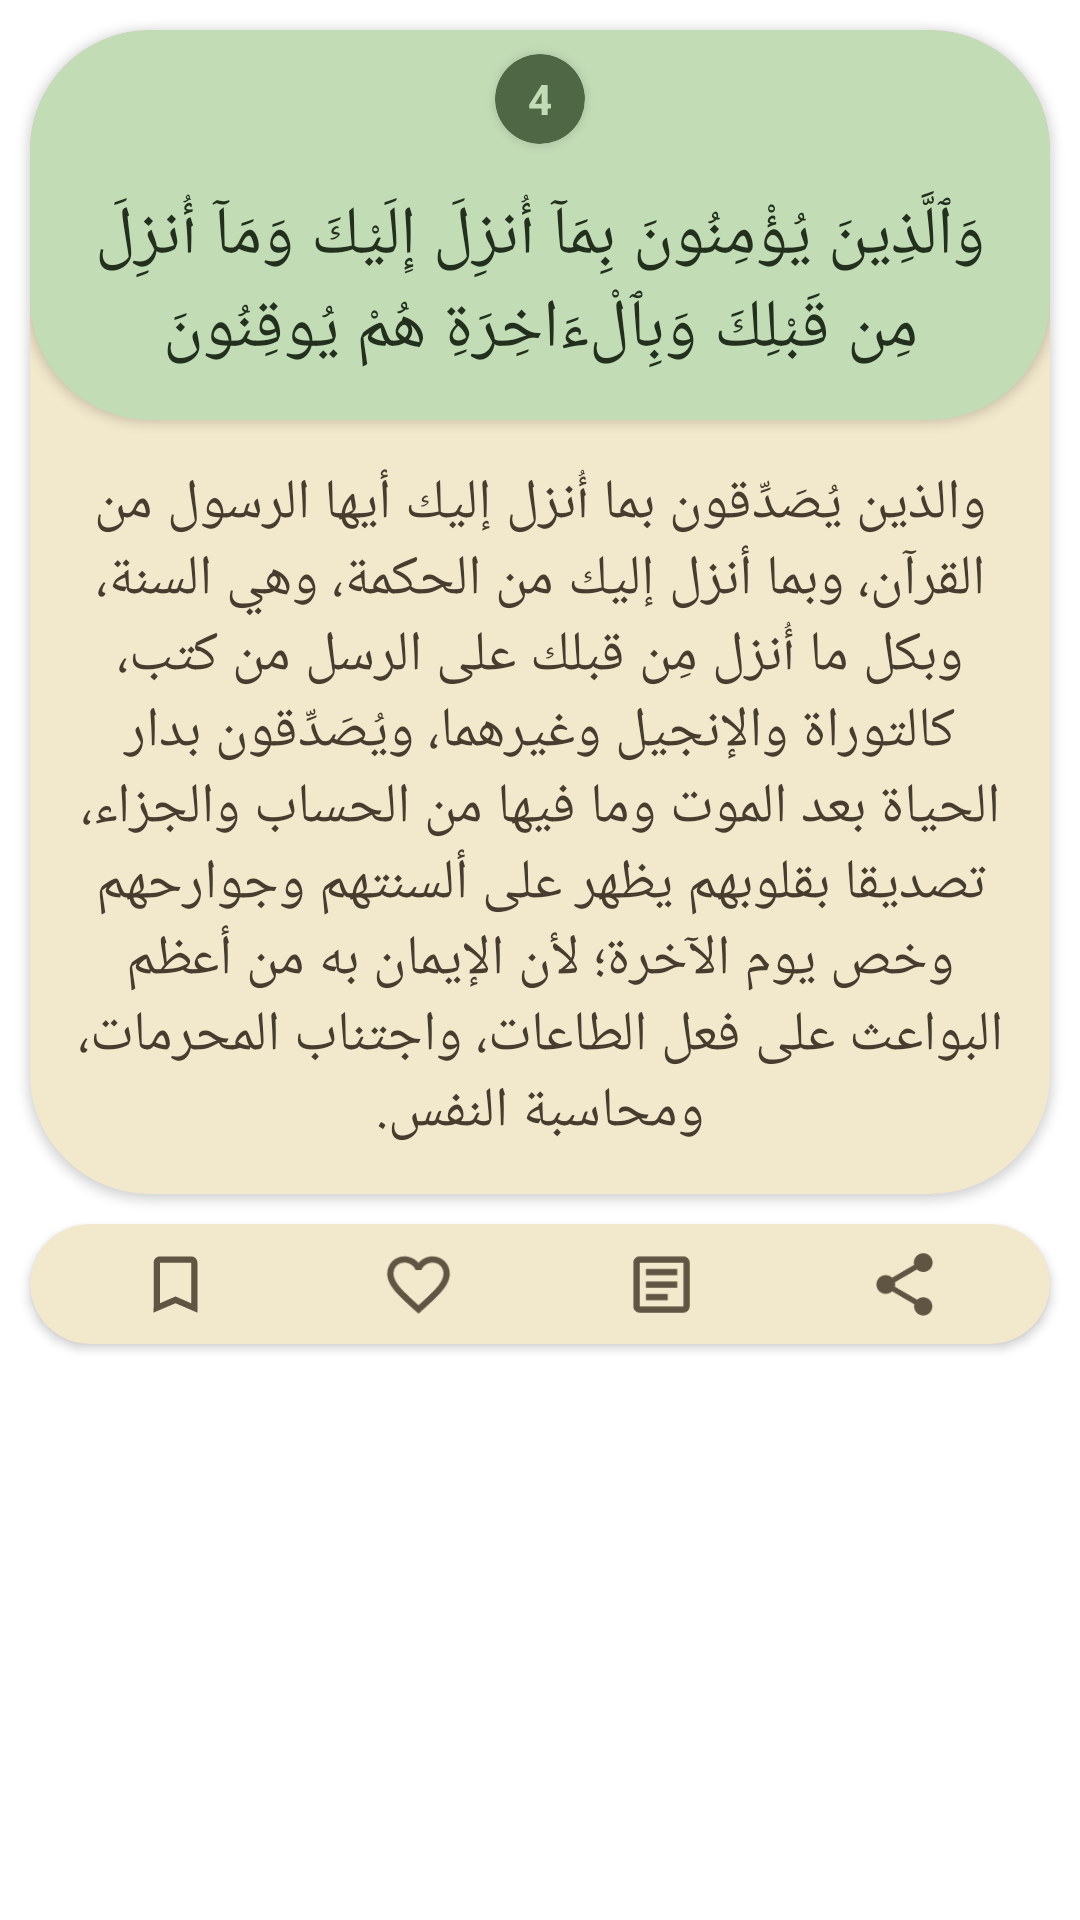

Point at icon controls on the screen. Image size 1080px×1920px, points as (x=x, y=y).
bookmark border: (x=175, y=1284)
favorite border: (x=418, y=1285)
share: (x=904, y=1284)
tafsir: (x=661, y=1284)
